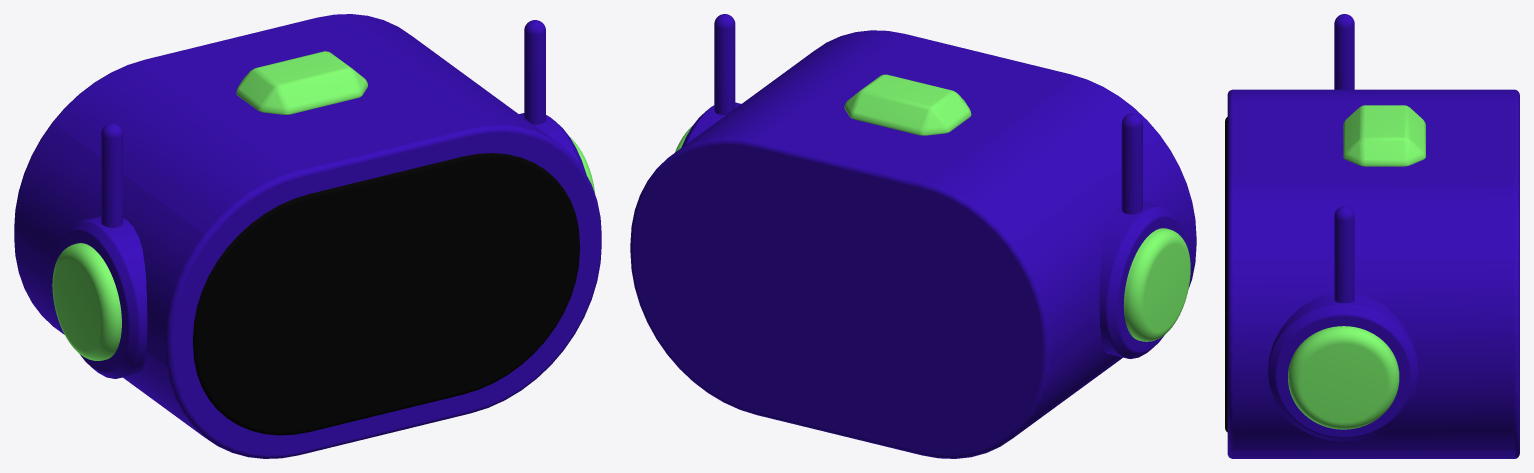
3 views of the same model, side by side, from view 1: azimuth 30°, elevation 25°; view 2: azimuth 150°, elevation 25°; view 3: azimuth 270°, elevation 25° (orthographic). The views are drawn at different scales.
Visible parts, largest first — view 1: Cube001, Cube001_1, Cylinder, Cylinder001, Cube002, Cylinder002; view 2: Cube001, Cylinder, Cylinder001, Cube002, Cylinder002; view 3: Cube001, Cylinder001, Cylinder, Cube002, Cylinder002, Cube001_1.
Part boxes in pixels (x1,y1,x2,y2): Cube001: [14, 14, 601, 458]; Cube001_1: [193, 153, 579, 435]; Cylinder: [57, 113, 586, 378]; Cylinder001: [52, 137, 595, 360]; Cube002: [236, 51, 367, 114]; Cylinder002: [101, 20, 545, 227]; Cube001: [630, 30, 1196, 458]; Cylinder: [681, 102, 1186, 358]; Cylinder001: [675, 126, 1190, 341]; Cube002: [844, 74, 971, 135]; Cylinder002: [714, 14, 1142, 214]; Cube001: [1227, 89, 1519, 458]; Cylinder001: [1288, 326, 1399, 429]; Cylinder: [1268, 293, 1419, 441]; Cube002: [1343, 105, 1425, 166]; Cylinder002: [1334, 14, 1354, 303]; Cube001_1: [1225, 117, 1227, 432].
Size of the model in its own units: 3.63 by 2.35 by 2.02.
